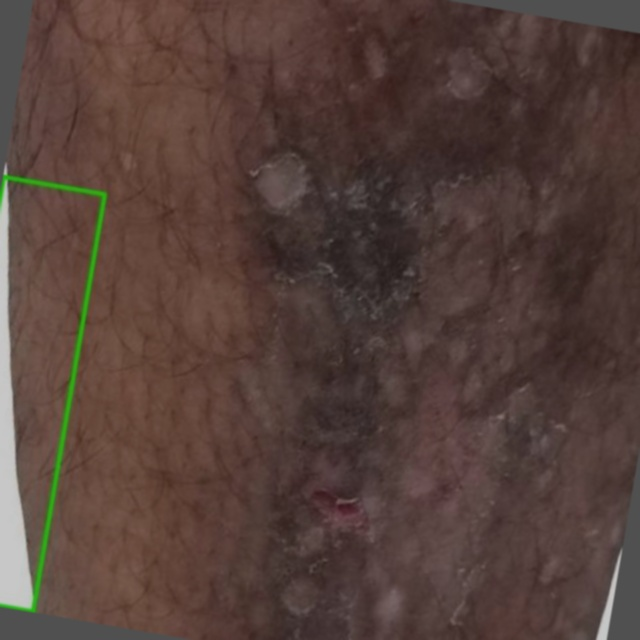Eczema: (0, 176, 105, 611)
